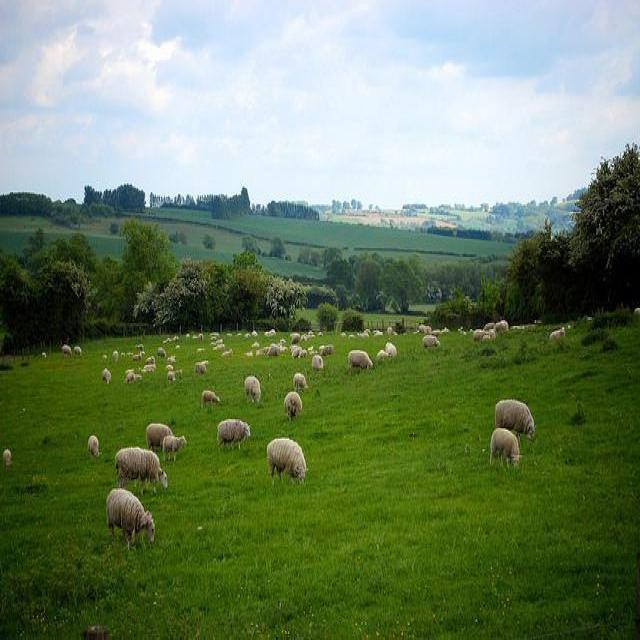Sheep: (1, 305, 639, 466), (107, 488, 155, 550), (117, 448, 167, 497)
